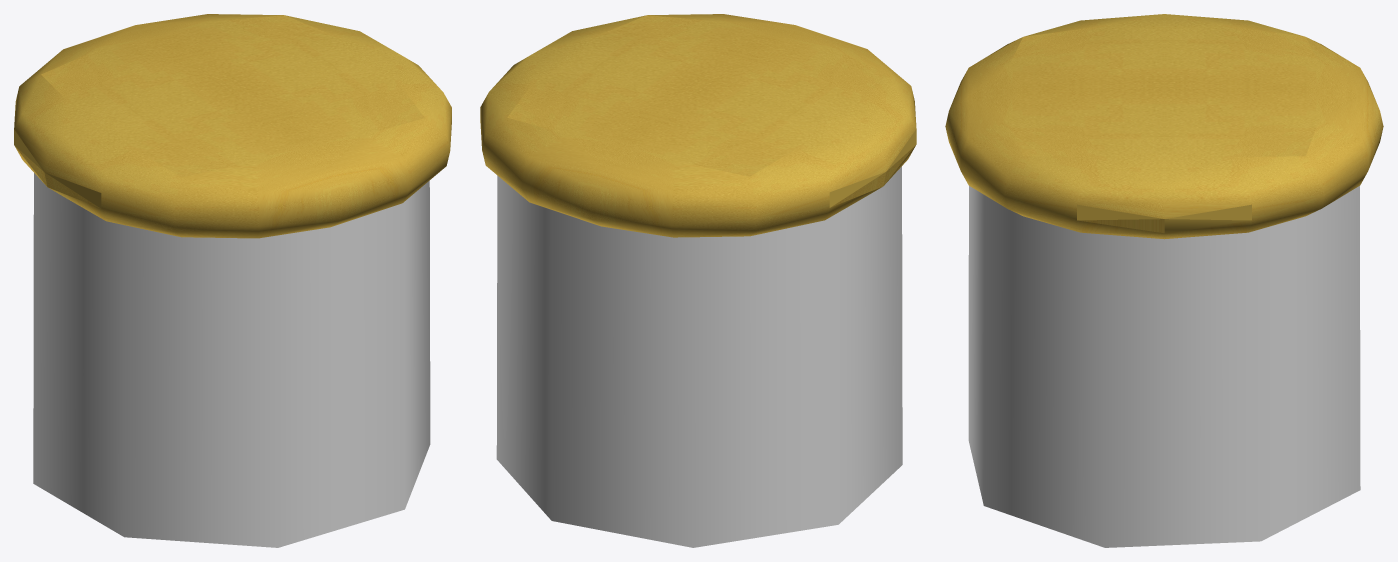
Rendered from ghe tiep tan1.fbx.
3 views of the same model, side by side, from view 1: azimuth 30°, elevation 25°; view 2: azimuth 150°, elevation 25°; view 3: azimuth 270°, elevation 25° (orthographic).
Visible parts, largest first — view 1: Cylinder, Cube.002; view 2: Cylinder, Cube.002; view 3: Cylinder, Cube.002.
Part boxes in pixels (x1,y1,x2,y2): Cylinder: (33,173,430,547); Cube.002: (14,14,451,238); Cylinder: (496,166,902,547); Cube.002: (480,14,916,237); Cylinder: (968,186,1360,547); Cube.002: (945,14,1383,239).
Size of the model in its own units: 49.37 by 47.32 by 49.42.
